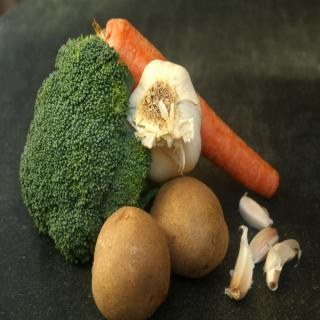Broccoli: (20, 37, 154, 265)
Carrot: (91, 16, 281, 201)
